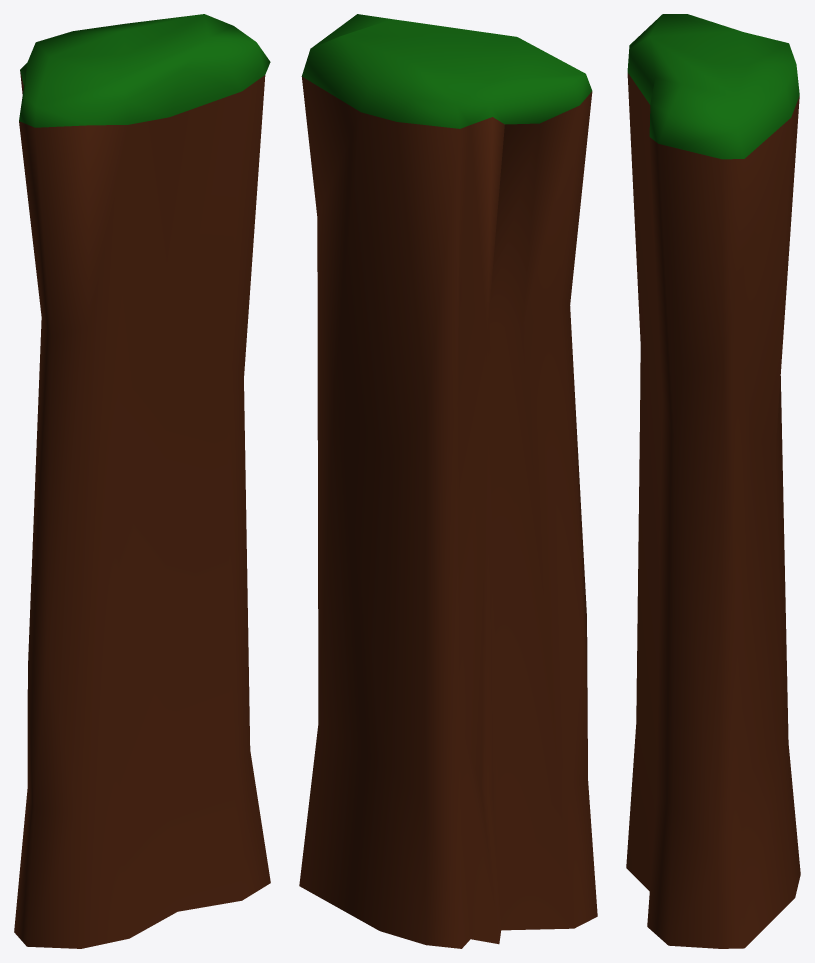
The model's file is land_04.fbx.
The picture shows the model from 3 angles, left to right: view 1: azimuth 30°, elevation 25°; view 2: azimuth 150°, elevation 25°; view 3: azimuth 270°, elevation 25°; orthographic projection. The views are drawn at different scales.
Visible parts, largest first — view 1: land_04; view 2: land_04; view 3: land_04.
Boxes of the visible parts, x1=… form: land_04: x1=14, y1=14, x2=270, y2=948; land_04: x1=299, y1=14, x2=597, y2=948; land_04: x1=626, y1=14, x2=800, y2=948.
Size of the model in its own units: 1.11 by 0.6735 by 3.56.
